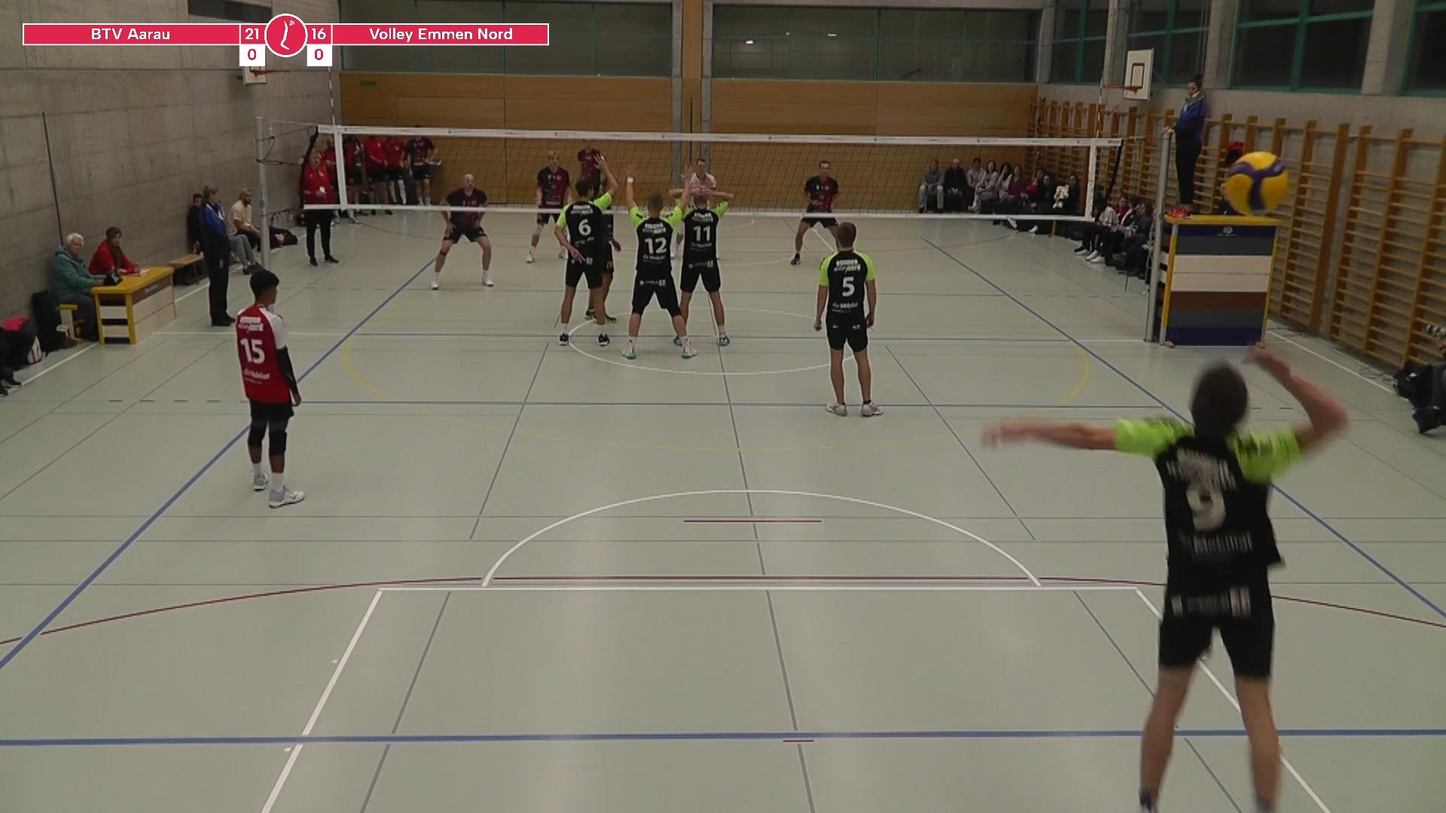battuta: (975, 339, 1348, 804)
